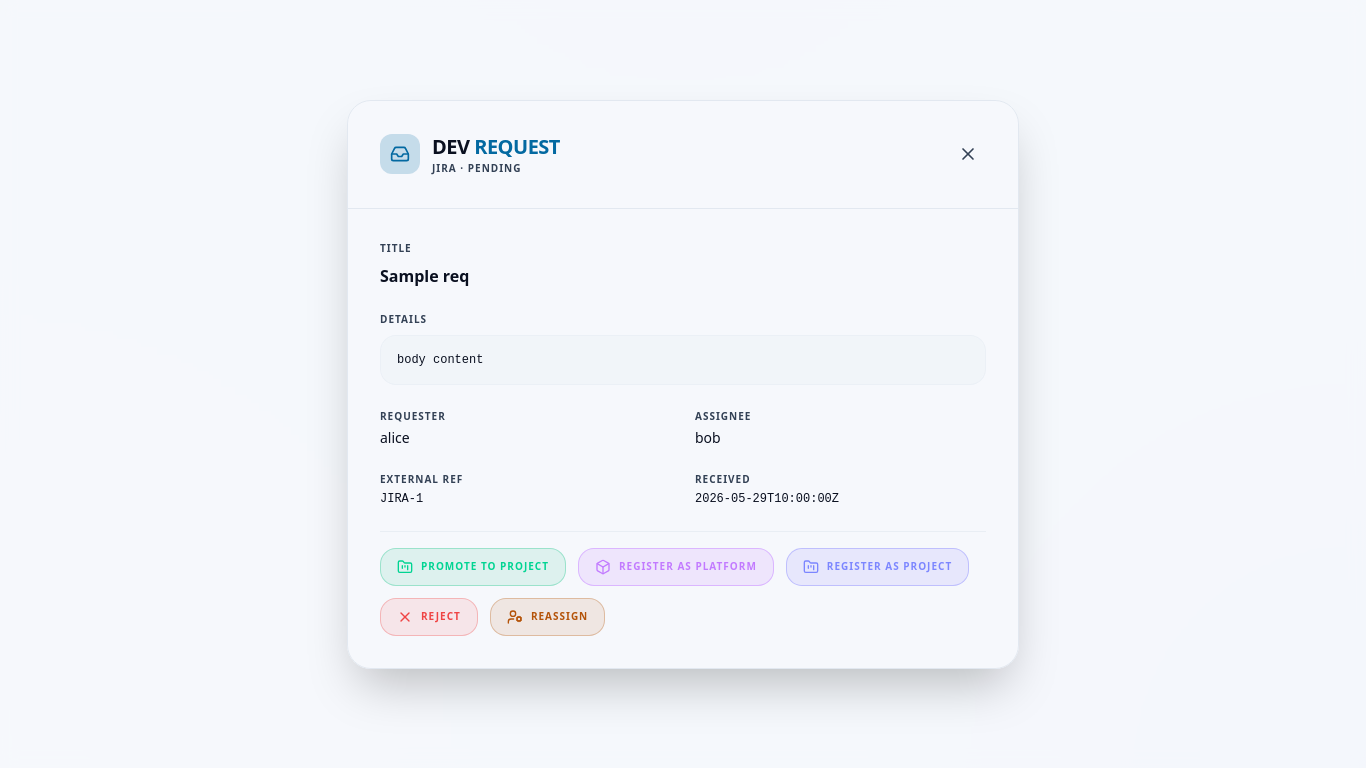
Scenario: DevRequestDetailModal › shows error when reject reason is empty
What coordinates should you click on to do the following:
click the button "Reject"
I would click on:
 (429, 616)
Its box is [380,598,478,636].
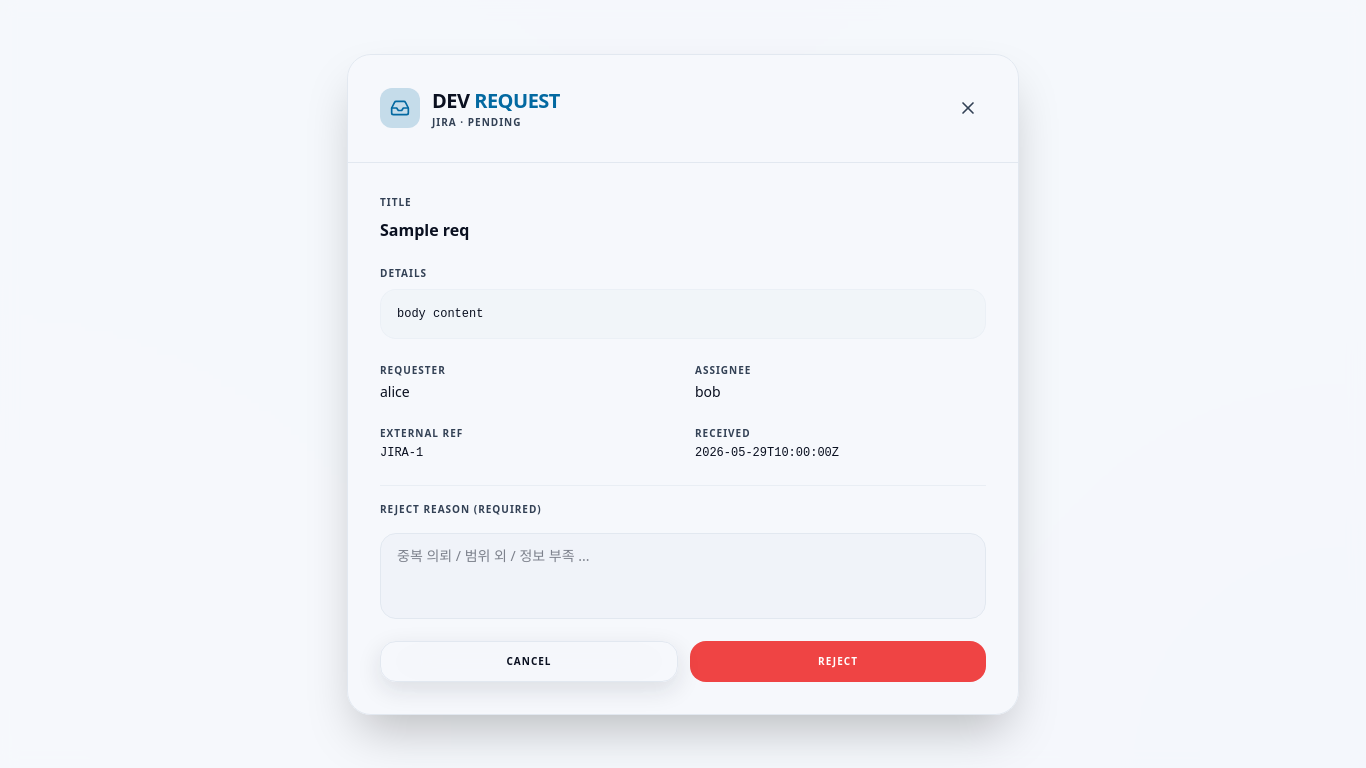
What coordinates should you click on to do the following:
click the button "Reject"
I would click on:
 (838, 661)
Its box is [690,640,986,682].
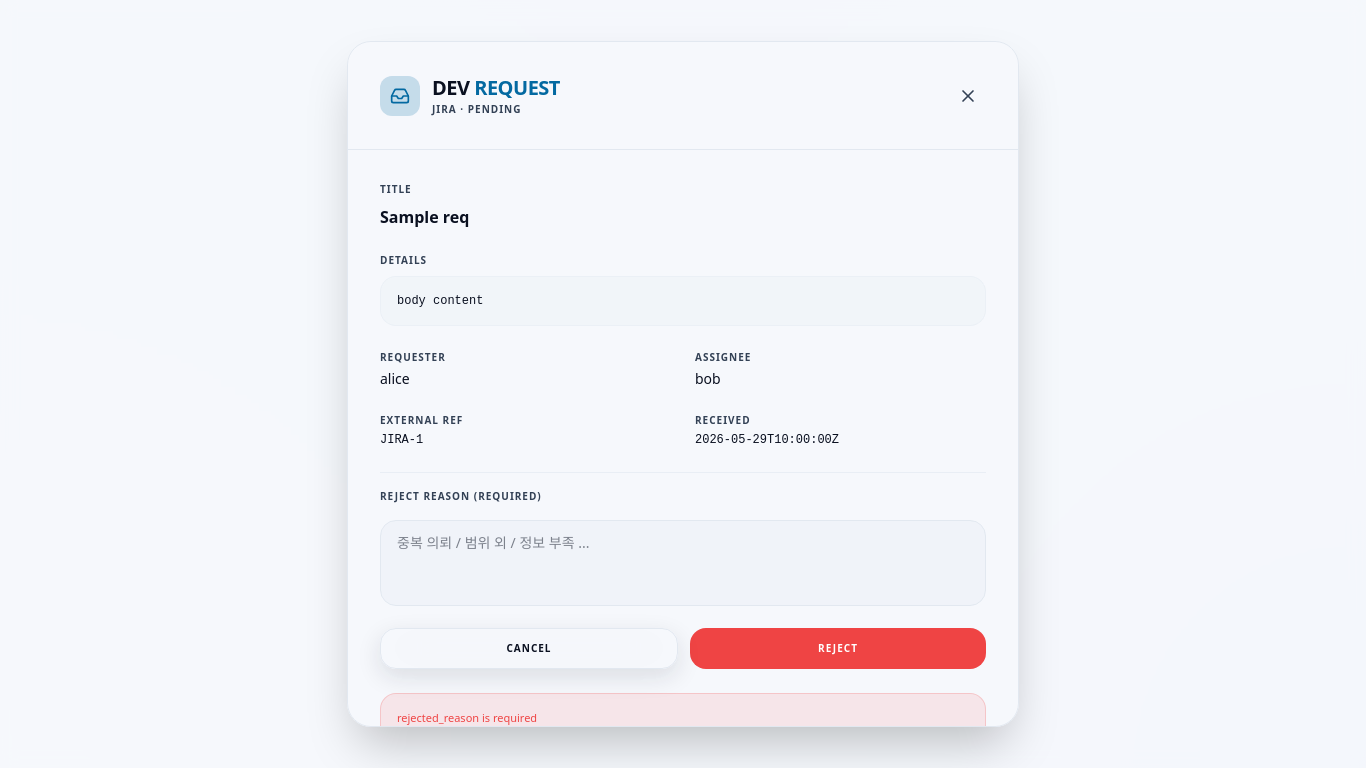
Expected: the text "rejected_reason is required" is shown, [380,693,986,726]
